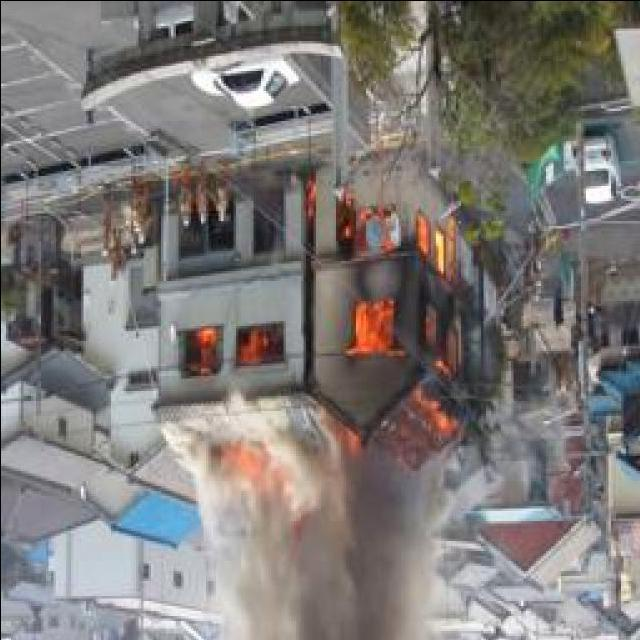Fire: (334, 180, 464, 456), (178, 318, 284, 370)
